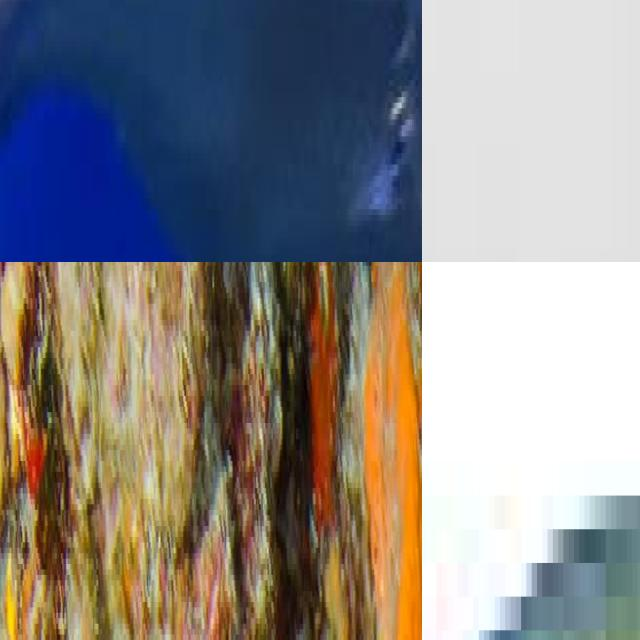fish: (0, 0, 422, 262), (422, 394, 640, 640)
